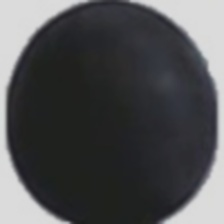grapes: (26, 38, 169, 206)
